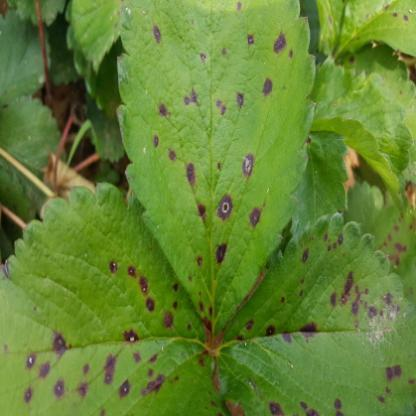Strawberry_Leaf_Spot: (115, 0, 318, 346), (0, 182, 233, 415), (212, 213, 416, 415), (333, 40, 415, 150), (348, 181, 415, 299), (290, 128, 351, 240), (330, 0, 416, 58)
